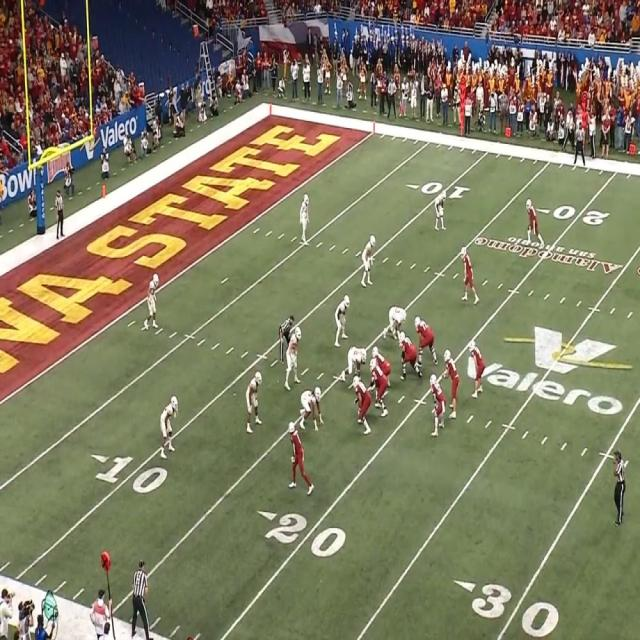center: (373, 346, 392, 381)
db: (162, 396, 176, 461), (148, 273, 157, 330), (301, 193, 308, 242), (436, 188, 443, 230)
lb: (248, 372, 262, 428), (363, 234, 376, 286), (288, 330, 300, 384), (336, 296, 350, 341)
qb: (444, 348, 459, 415)
